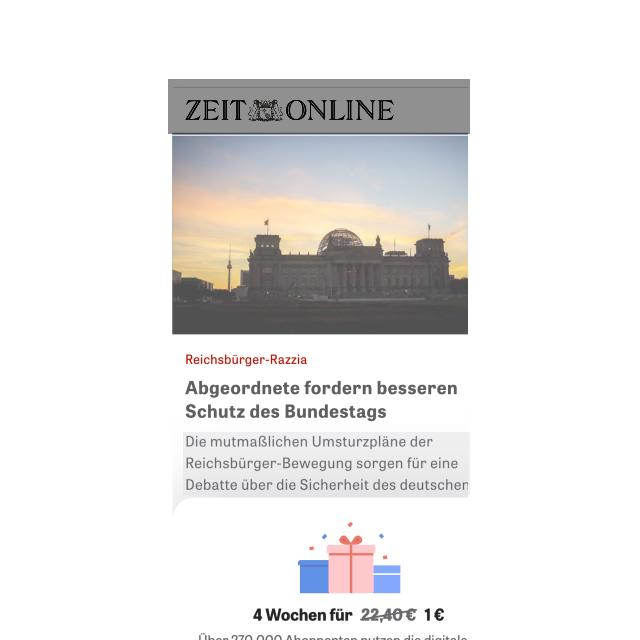Input field: (183, 432, 470, 495)
accordion: (168, 82, 474, 94)
bag: (168, 80, 470, 136)
content: (294, 515, 406, 597)
copy: (173, 135, 468, 334)
date picker: (182, 95, 397, 126)
image: (182, 378, 462, 424)
